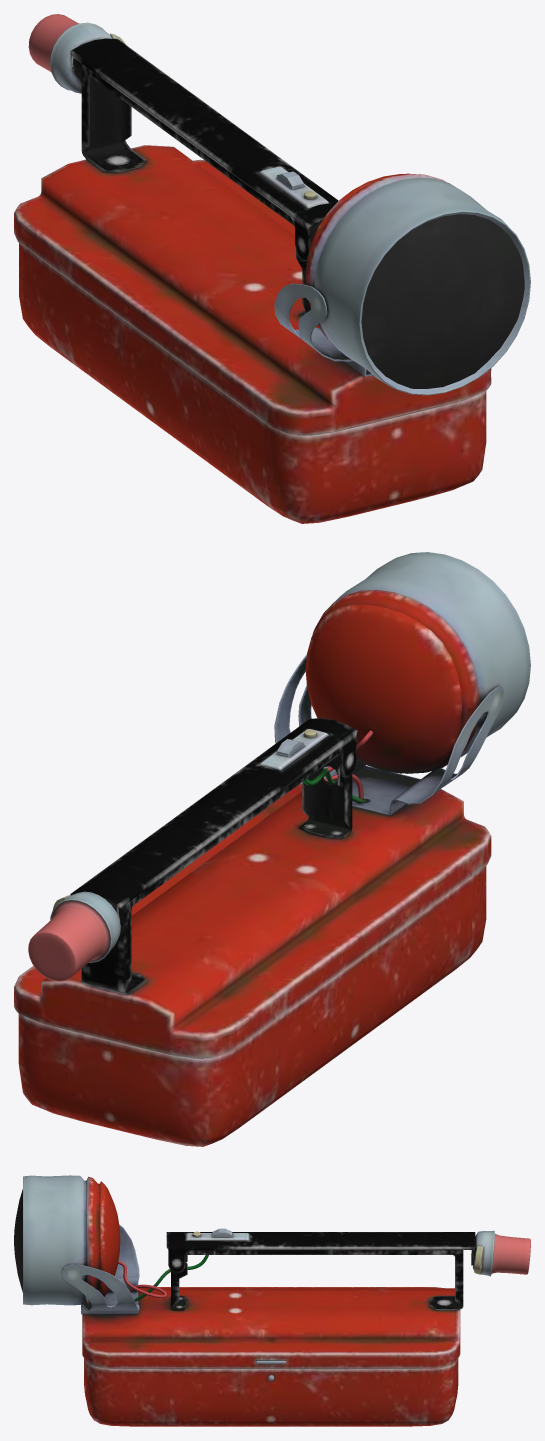
File: vintage_flashlight.glb
3 views of the same model, one above another, from view 1: azimuth 30°, elevation 25°; view 2: azimuth 150°, elevation 25°; view 3: azimuth 270°, elevation 25° (orthographic). The views are drawn at different scales.
Visible parts, largest first — view 1: vintage_flashlight; view 2: vintage_flashlight; view 3: vintage_flashlight.
Part boxes in pixels (x1=…): vintage_flashlight: x1=14, y1=14, x2=530, y2=523; vintage_flashlight: x1=14, y1=552, x2=530, y2=1146; vintage_flashlight: x1=14, y1=1175, x2=530, y2=1426.
Bounding box in the file's own units: 0.0959 × 0.1443 × 0.3055.
2 materials, 2 textured.
